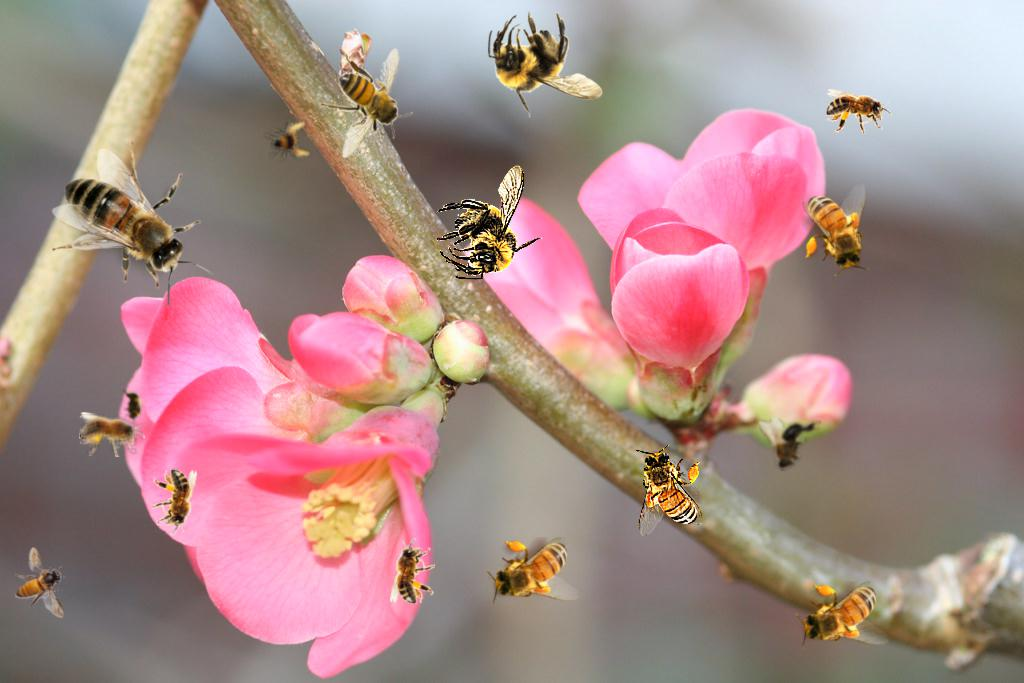Bee: (52, 140, 214, 307), (436, 165, 543, 280), (488, 11, 603, 118), (319, 48, 413, 159), (796, 581, 889, 649), (802, 183, 870, 276), (635, 444, 703, 537), (487, 537, 580, 605), (15, 547, 65, 618), (759, 418, 821, 471), (152, 469, 197, 535), (79, 412, 145, 457), (826, 89, 892, 134), (390, 538, 435, 604), (261, 113, 315, 167), (122, 386, 144, 426)
